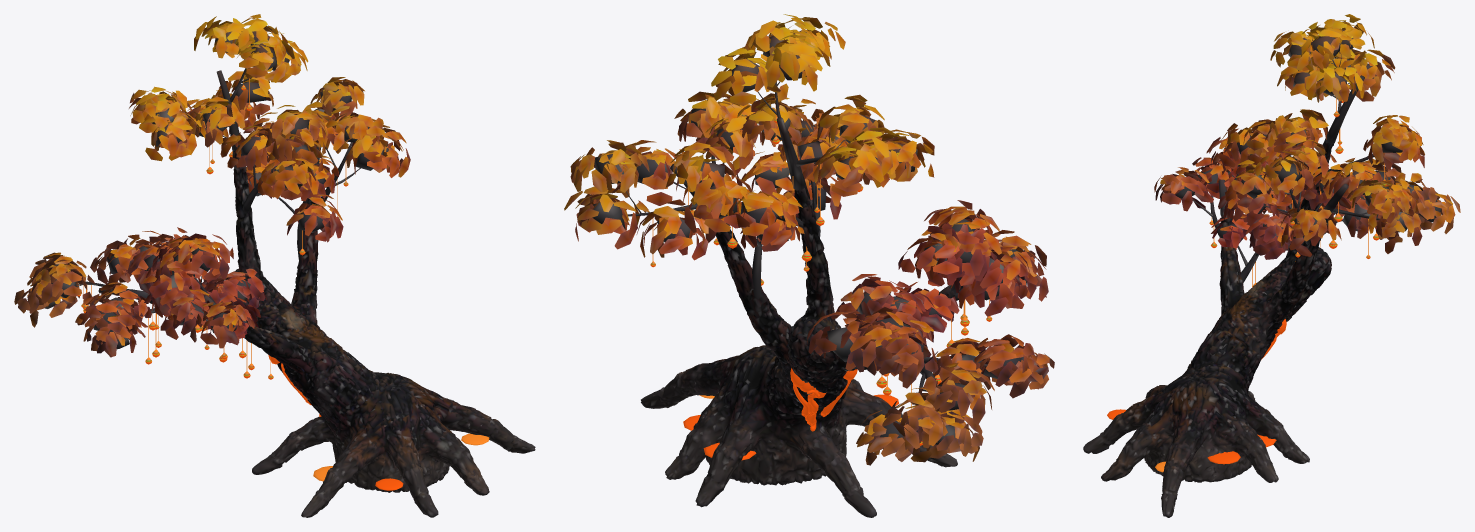
File: agac_kehribar.glb
The picture shows the model from 3 angles, left to right: view 1: azimuth 30°, elevation 25°; view 2: azimuth 150°, elevation 25°; view 3: azimuth 270°, elevation 25°; orthographic projection. The views are drawn at different scales.
Visible parts, largest first — view 1: agac_kehribar_LOD0; view 2: agac_kehribar_LOD0; view 3: agac_kehribar_LOD0.
Part boxes in pixels (x1,y1,x2,y2): agac_kehribar_LOD0: (14, 14, 535, 517); agac_kehribar_LOD0: (564, 14, 1054, 517); agac_kehribar_LOD0: (1083, 14, 1460, 517).
Size of what is drawn, in the model's own units: 10.07 by 10.29 by 8.68.
Materials: 2 (1 with a texture image).
